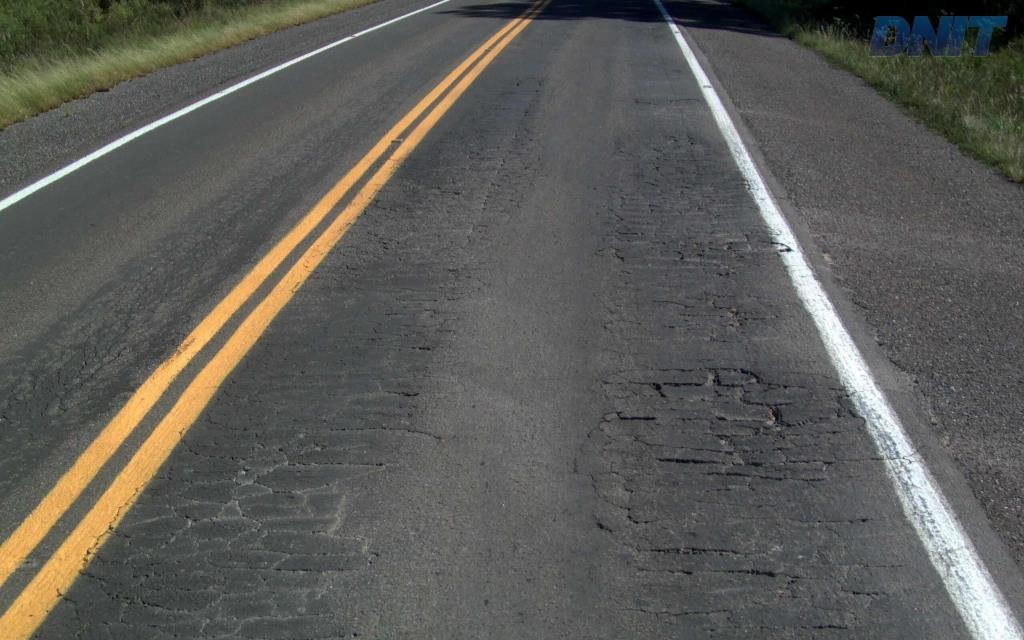crack: (704, 367, 817, 428), (650, 546, 738, 556)
